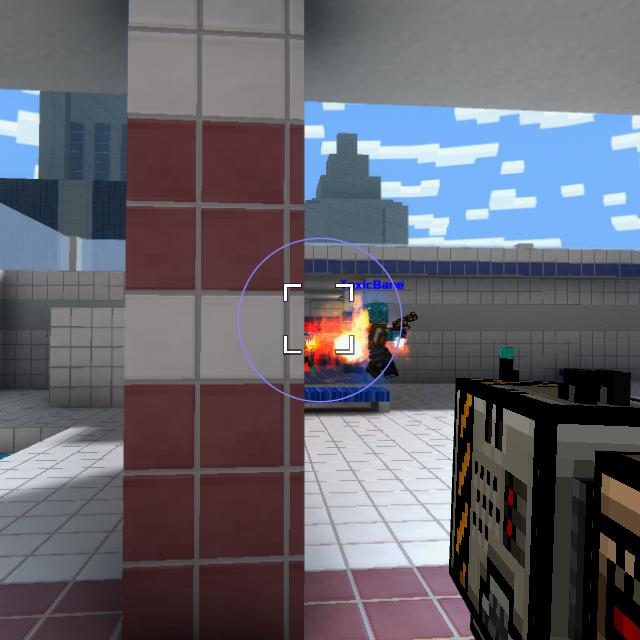Enemy: (304, 331, 317, 373)
